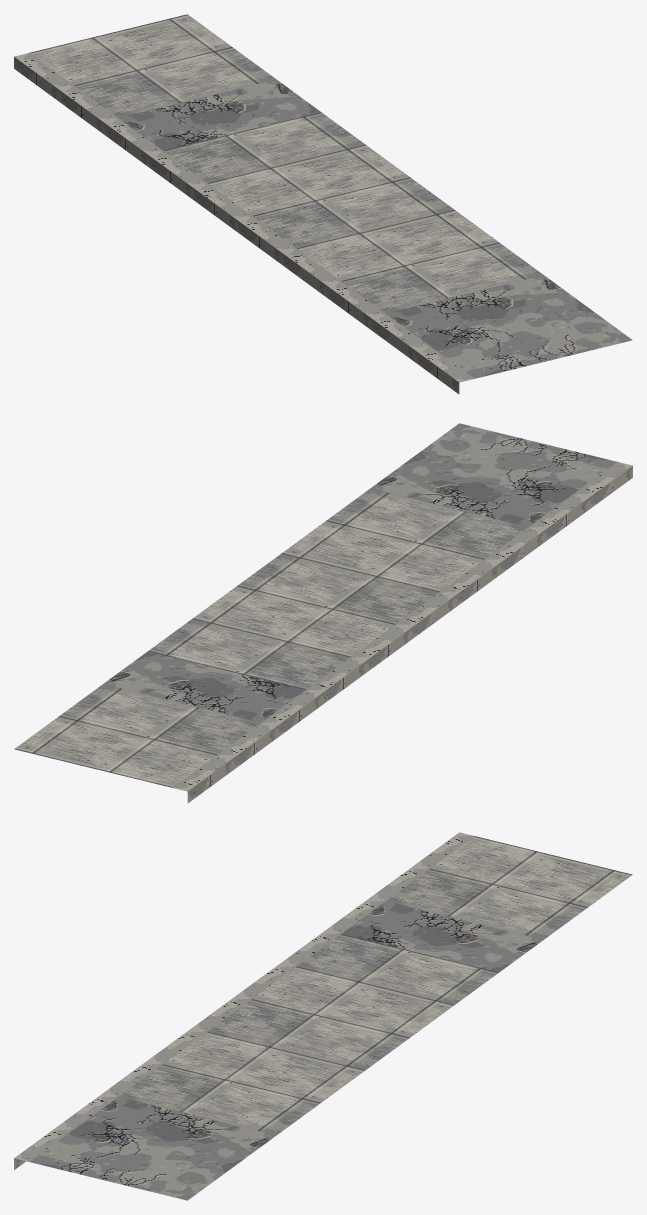
File: SW_Straight_10m_Cracked.obj
3 renders of one model, top to bottom at view 1: azimuth 30°, elevation 25°; view 2: azimuth 150°, elevation 25°; view 3: azimuth 330°, elevation 25°, orthographic.
Parts seen in each view (by area): view 1: SW_Straight_10m_Cracked_Mesh_M_Road_SidewalkConcrete, SW_Straight_10m_Cracked_Mesh_M_Road_ConcreteCracked, SW_Straight_10m_Cracked_Mesh_M_Road_CurbConcrete; view 2: SW_Straight_10m_Cracked_Mesh_M_Road_SidewalkConcrete, SW_Straight_10m_Cracked_Mesh_M_Road_ConcreteCracked, SW_Straight_10m_Cracked_Mesh_M_Road_CurbConcrete; view 3: SW_Straight_10m_Cracked_Mesh_M_Road_SidewalkConcrete, SW_Straight_10m_Cracked_Mesh_M_Road_ConcreteCracked, SW_Straight_10m_Cracked_Mesh_M_Road_CurbConcrete.
Boxes of the visible parts, bbox=[...] form: SW_Straight_10m_Cracked_Mesh_M_Road_SidewalkConcrete: bbox=[29, 14, 543, 313]; SW_Straight_10m_Cracked_Mesh_M_Road_ConcreteCracked: bbox=[119, 79, 632, 378]; SW_Straight_10m_Cracked_Mesh_M_Road_CurbConcrete: bbox=[14, 53, 474, 394]; SW_Straight_10m_Cracked_Mesh_M_Road_SidewalkConcrete: bbox=[14, 488, 527, 787]; SW_Straight_10m_Cracked_Mesh_M_Road_ConcreteCracked: bbox=[103, 423, 617, 722]; SW_Straight_10m_Cracked_Mesh_M_Road_CurbConcrete: bbox=[172, 462, 632, 803]; SW_Straight_10m_Cracked_Mesh_M_Road_SidewalkConcrete: bbox=[119, 836, 632, 1135]; SW_Straight_10m_Cracked_Mesh_M_Road_ConcreteCracked: bbox=[30, 901, 543, 1200]; SW_Straight_10m_Cracked_Mesh_M_Road_CurbConcrete: bbox=[14, 832, 474, 1169].
Bounding box in the file's own units: 2.25 × 0.15 × 10.
Materials: 3 (3 with a texture image).
